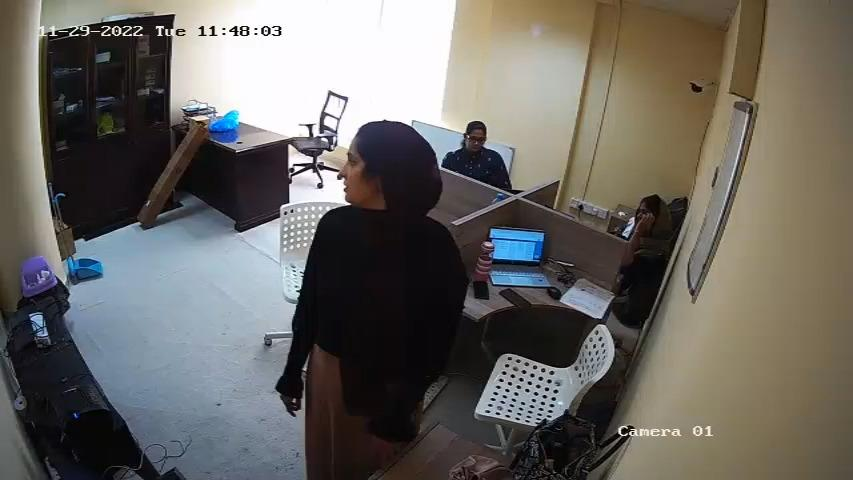no_apron: (322, 217, 424, 394)
